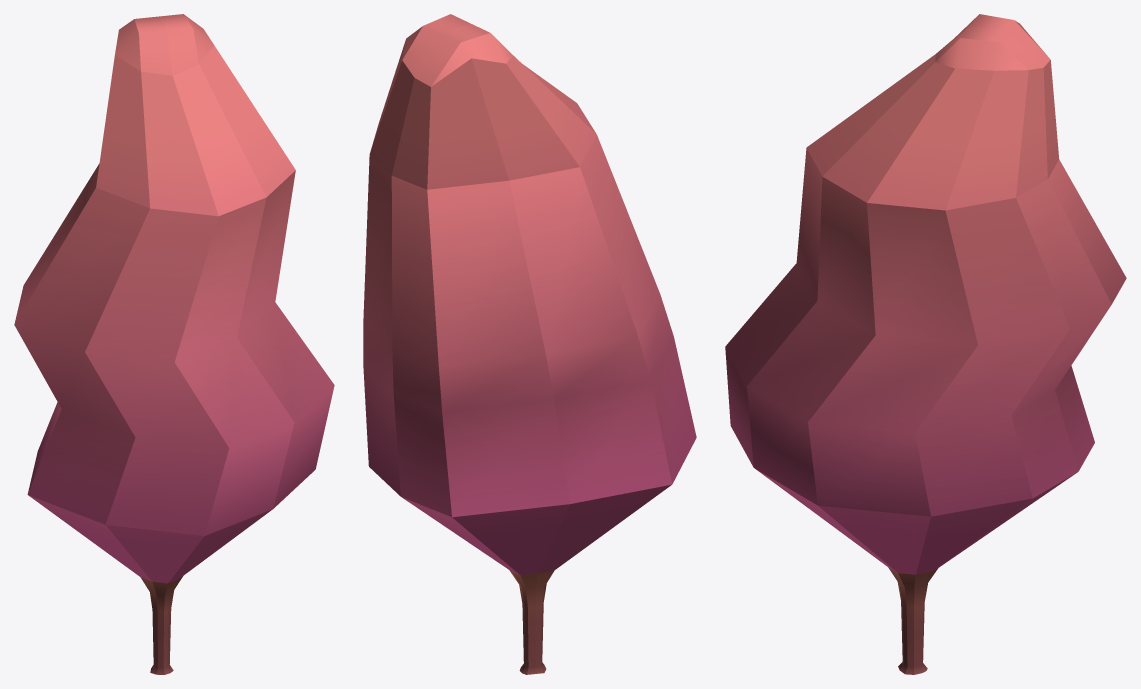
The model's file is Spruce_pink 1.fbx.
3 renders of one model, left to right at view 1: azimuth 30°, elevation 25°; view 2: azimuth 150°, elevation 25°; view 3: azimuth 270°, elevation 25°, orthographic. The views are drawn at different scales.
Visible parts, largest first — view 1: Spruce_pink1; view 2: Spruce_pink1; view 3: Spruce_pink1.
Part boxes in pixels (<box>): Spruce_pink1: <box>14,14,334,674</box>; Spruce_pink1: <box>363,14,696,674</box>; Spruce_pink1: <box>725,14,1126,674</box>.
Bounding box in the file's own units: 17.46 × 36.99 × 20.39.
